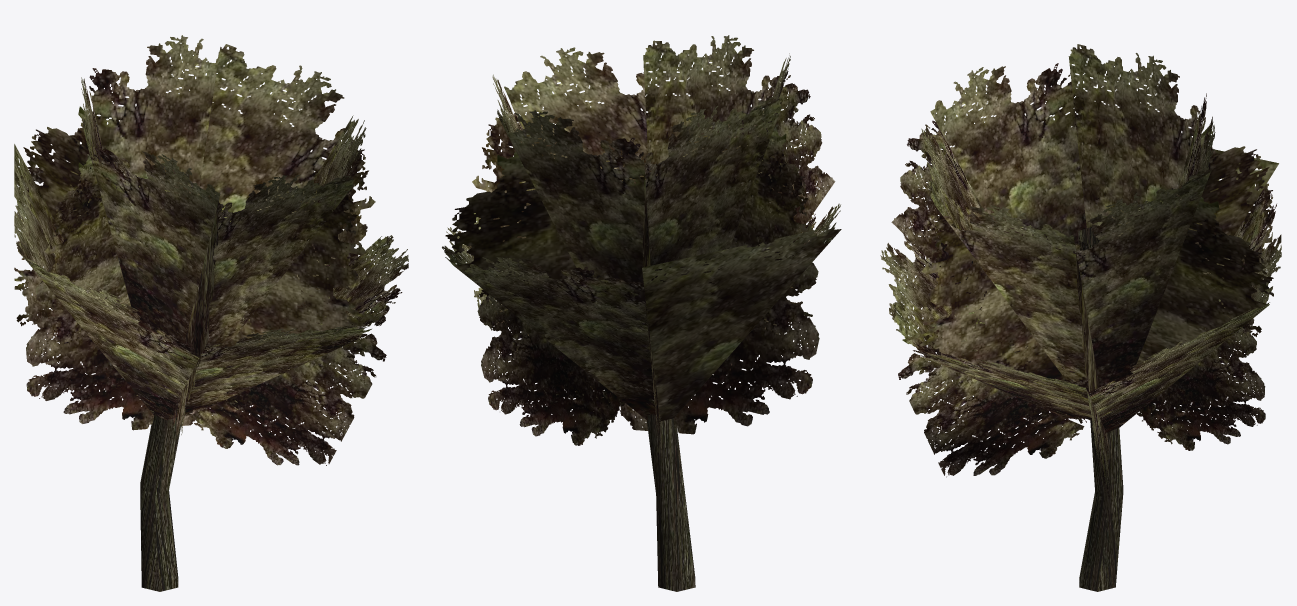
The model's file is OW_LOB_TREE_V9.glb.
The picture shows the model from 3 angles, left to right: view 1: azimuth 30°, elevation 25°; view 2: azimuth 150°, elevation 25°; view 3: azimuth 270°, elevation 25°; orthographic projection. The views are drawn at different scales.
Visible parts, largest first — view 1: Mesh; view 2: Mesh; view 3: Mesh.
Boxes of the visible parts, x1,y1,x2,y2 form: Mesh: (14,35,408,591); Mesh: (442,35,841,591); Mesh: (880,44,1281,591).
Bounding box in the file's own units: 11.57 × 14.44 × 10.15.
Materials: 2 (2 with a texture image).
